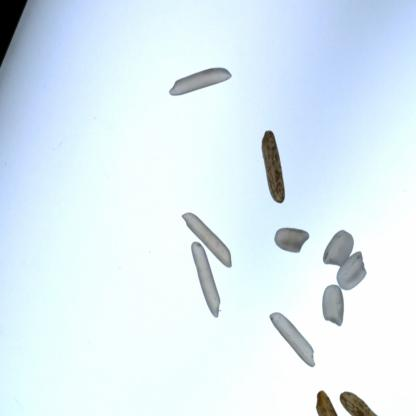Full: (162, 52, 230, 136), (242, 128, 306, 205), (182, 250, 240, 327), (175, 209, 244, 270), (264, 313, 326, 372), (268, 221, 314, 264), (318, 286, 357, 330), (334, 250, 367, 299), (346, 380, 392, 415), (323, 224, 355, 272), (316, 394, 346, 416)
